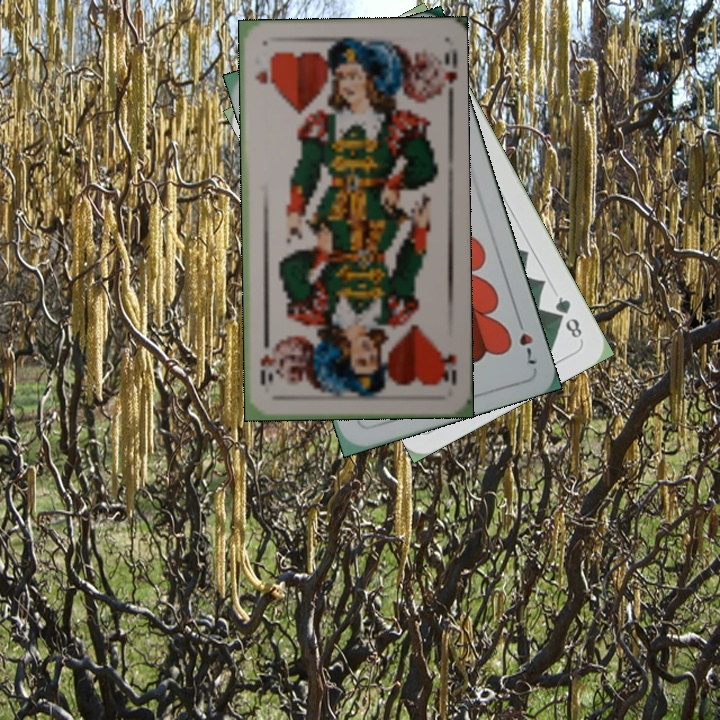G8: (550, 292, 585, 341)
H7: (513, 312, 539, 367)
HO: (437, 347, 459, 388), (250, 52, 273, 86)
